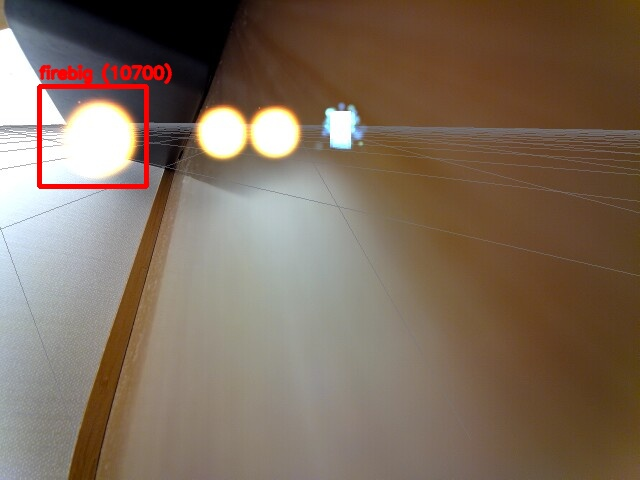firebig: (39, 86, 146, 186)
